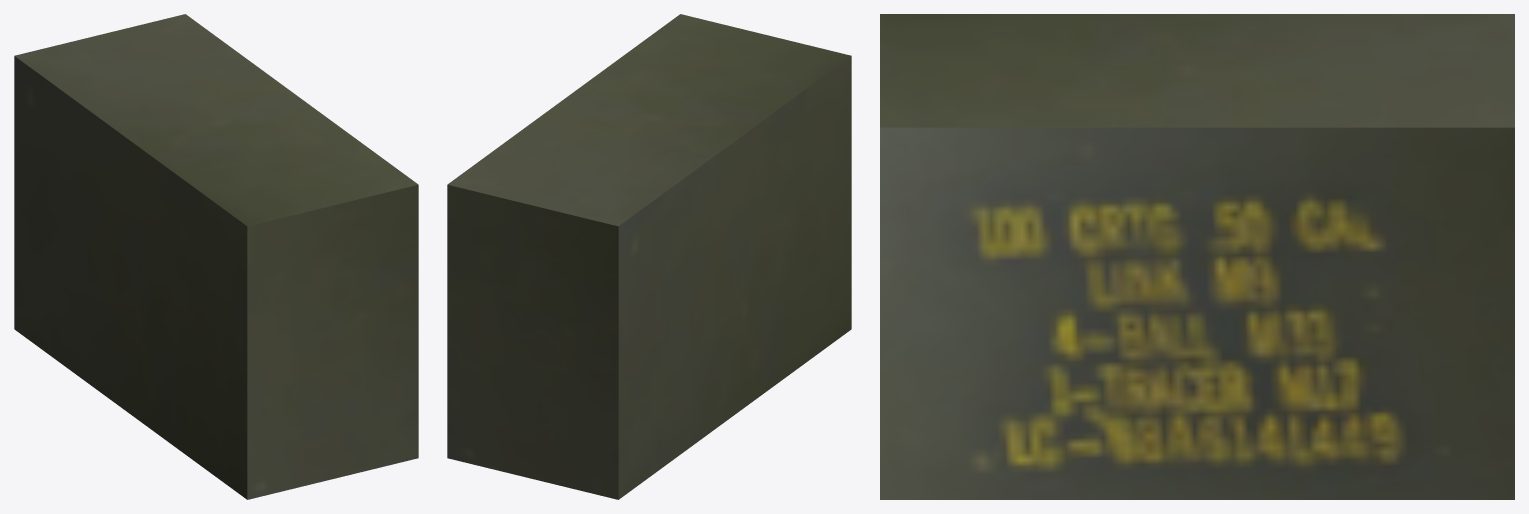
File: AmmoBox.fbx
3 views of the same model, side by side, from view 1: azimuth 30°, elevation 25°; view 2: azimuth 150°, elevation 25°; view 3: azimuth 270°, elevation 25° (orthographic). The views are drawn at different scales.
Parts seen in each view (by area): view 1: AmmoBox; view 2: AmmoBox; view 3: AmmoBox.
Boxes of the visible parts, box(x1,y1,x2,y2) form: AmmoBox: box(14, 14, 418, 499); AmmoBox: box(447, 14, 851, 499); AmmoBox: box(880, 14, 1514, 499).
Bounding box in the file's own units: 100 × 153 × 236.
